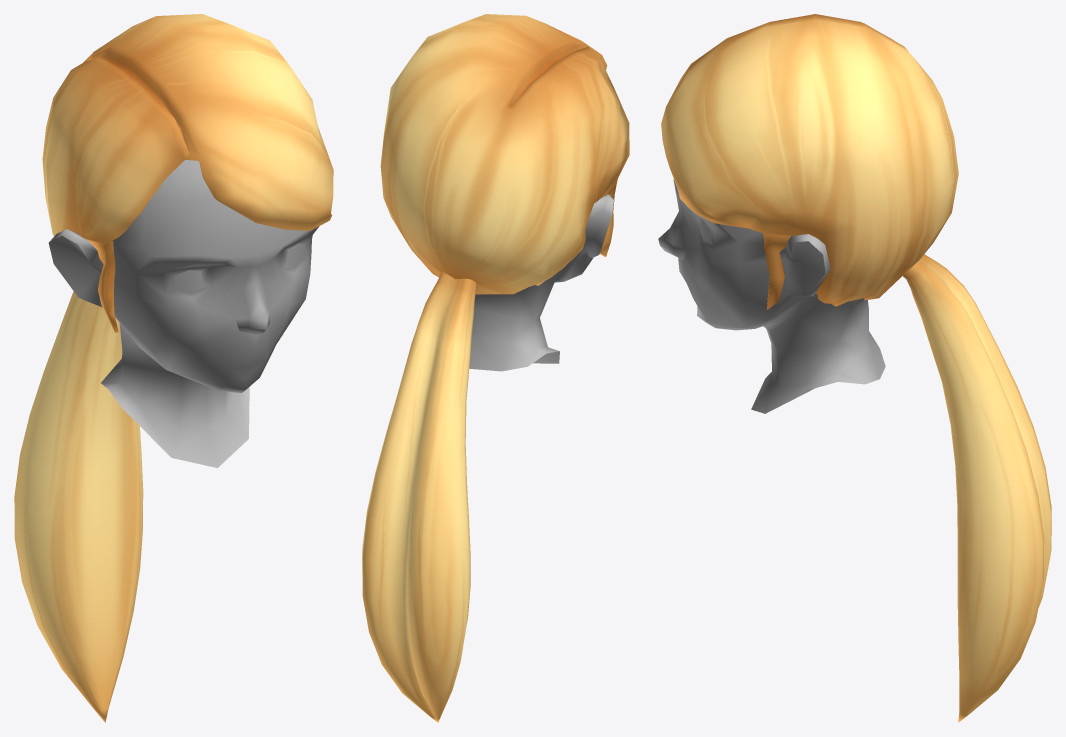
Rendered from doki-smart-pony-tail.glb.
The picture shows the model from 3 angles, left to right: view 1: azimuth 30°, elevation 25°; view 2: azimuth 150°, elevation 25°; view 3: azimuth 270°, elevation 25°; orthographic projection. The views are drawn at different scales.
Parts seen in each view (by area): view 1: Smart Pony Tail, Head_BaseMesh; view 2: Smart Pony Tail, Head_BaseMesh; view 3: Smart Pony Tail, Head_BaseMesh.
Part boxes in pixels (bbox=[...]): Smart Pony Tail: bbox=[14, 14, 333, 722]; Head_BaseMesh: bbox=[48, 160, 319, 467]; Smart Pony Tail: bbox=[362, 14, 629, 722]; Head_BaseMesh: bbox=[469, 194, 613, 371]; Smart Pony Tail: bbox=[661, 14, 1051, 722]; Head_BaseMesh: bbox=[658, 179, 885, 413].
Size of the model in its own units: 0.6128 by 1.68 by 0.8526.
Materials: 3 (3 with a texture image).
